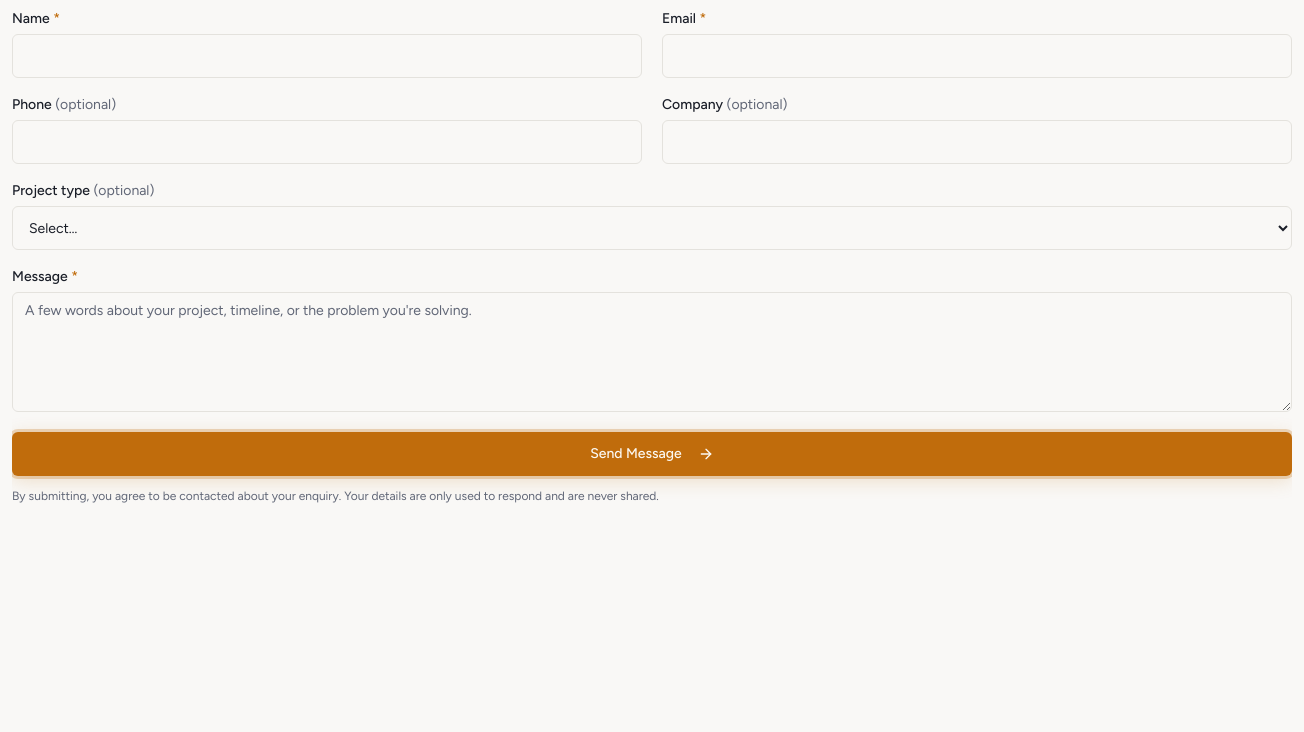
Test case: ContactForm › shows an inline error with the email fallback when the request fails
Type "Maria Papadopoulou" into the field labelled "Name *".
click(327, 56); type("Maria Papadopoulou")  # box x1=12 y1=34 x2=642 y2=78
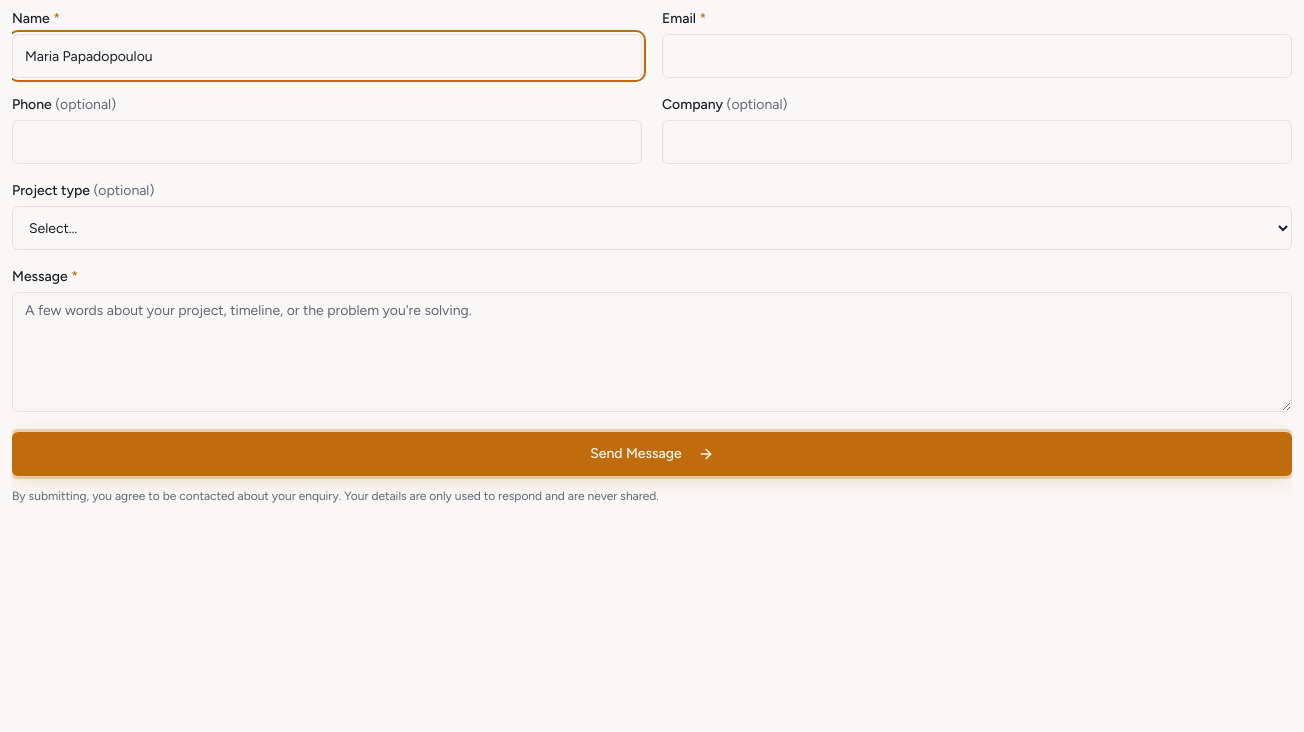
Type "maria@acme.gr" into the field labelled "Email *".
click(977, 56); type("maria@acme.gr")  # box x1=662 y1=34 x2=1292 y2=78
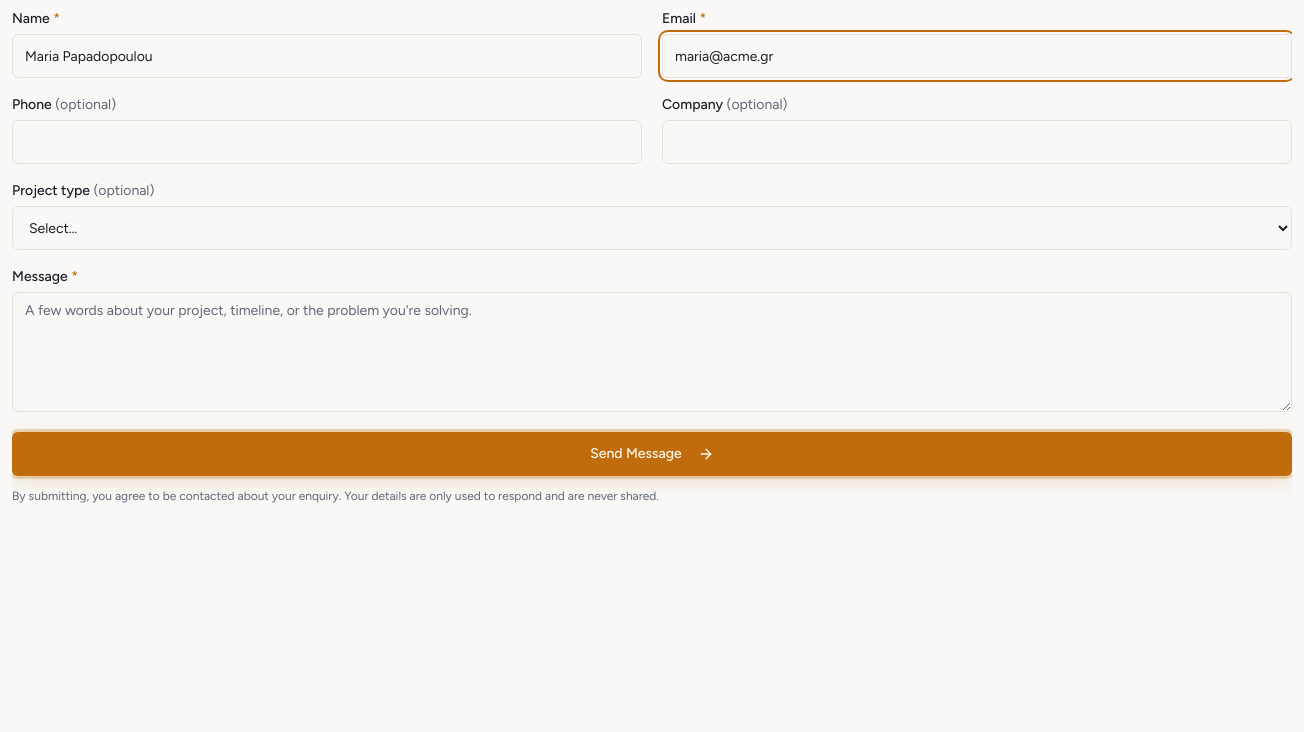
Type "We need a custom order system built." into the text box labelled "Message *".
click(652, 352); type("We need a custom order system built.")  # box x1=12 y1=292 x2=1292 y2=412
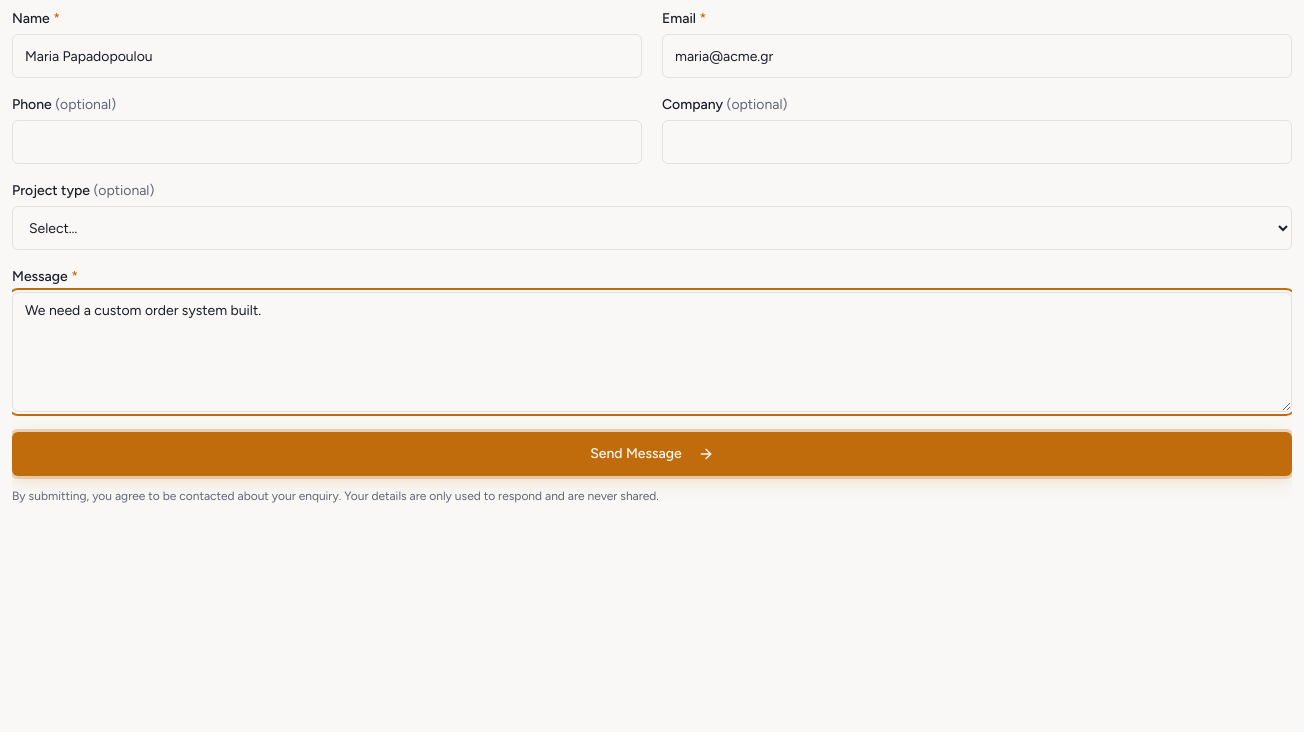
Click the button "Send Message".
click(652, 454)  # box x1=12 y1=432 x2=1292 y2=476
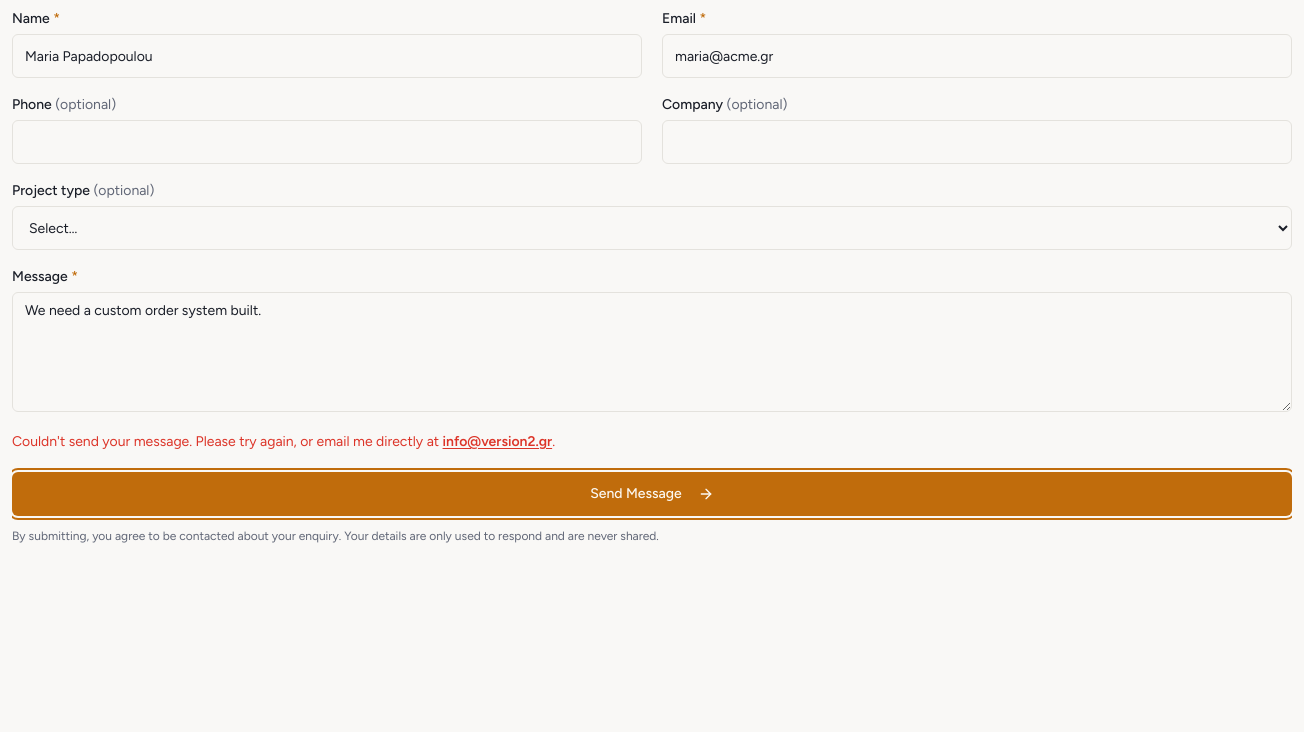
Expected: the message shows "Couldn't send your message", x1=12 y1=433 x2=439 y2=450
Expected: the link "info@version2.gr" is shown, x1=442 y1=433 x2=552 y2=450
